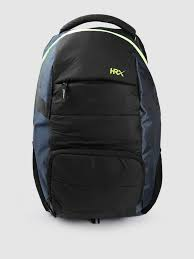backpack: (31, 13, 162, 224)
